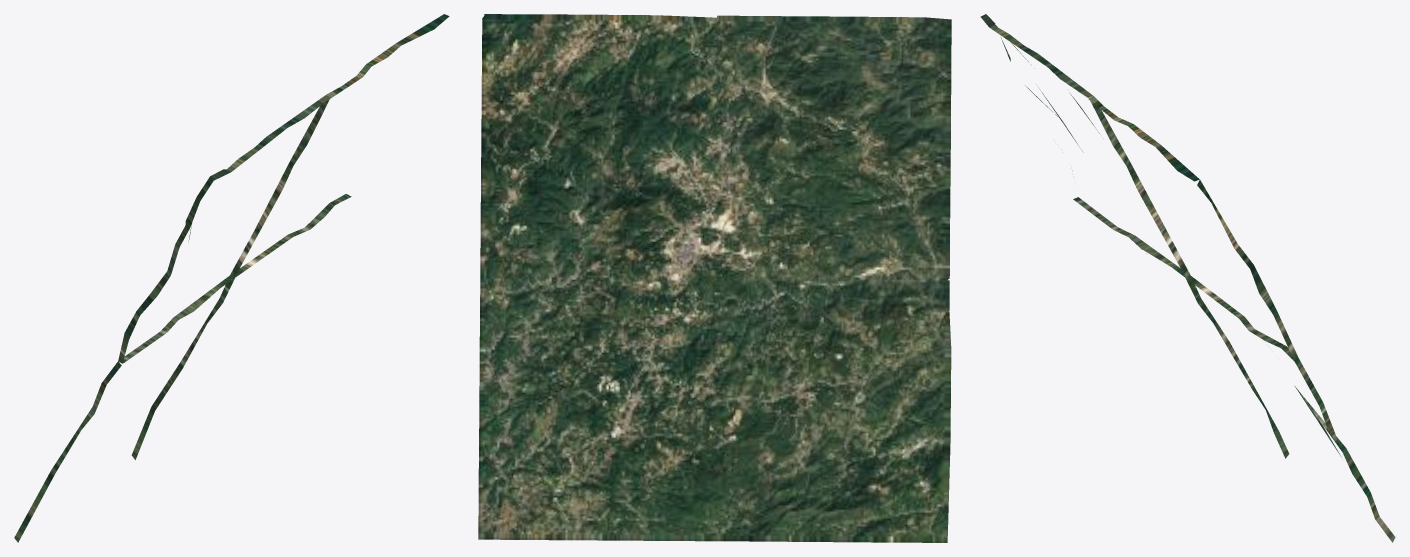
3 renders of one model, left to right at view 1: azimuth 30°, elevation 25°; view 2: azimuth 150°, elevation 25°; view 3: azimuth 270°, elevation 25°, orthographic. The views are drawn at different scales.
Size of the model in its own units: 39623 by 35603 by 32659.
1 material, 1 textured.
